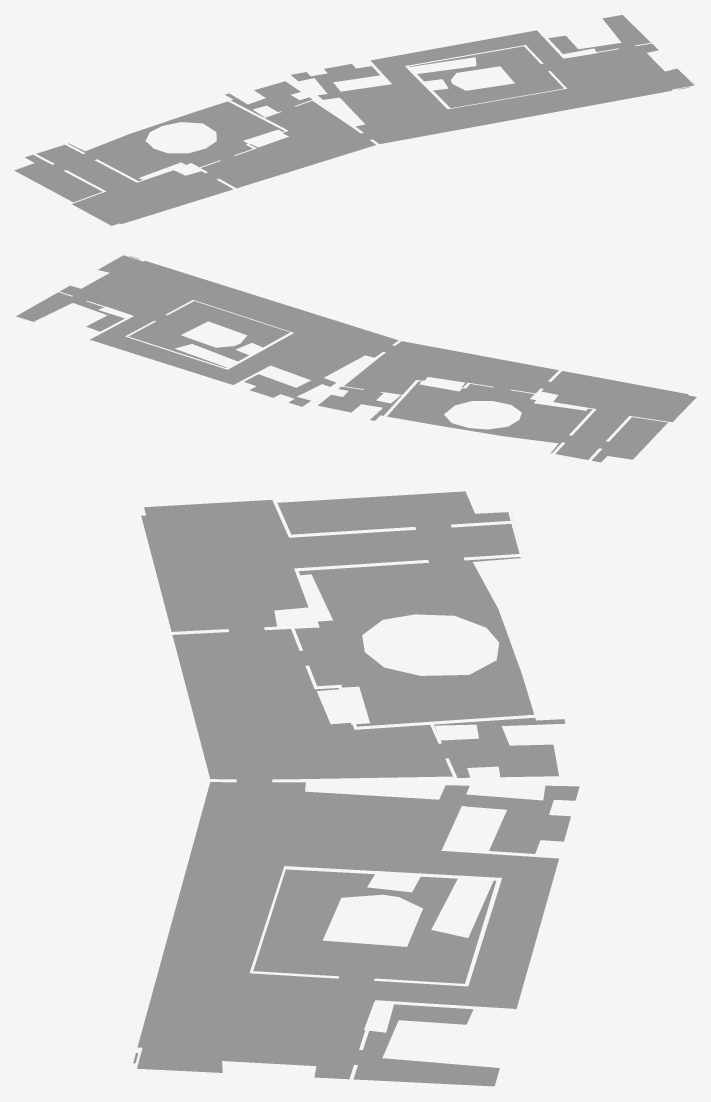
The model's file is DollHouseFloorAI.fbx.
The picture shows the model from 3 angles, top to bottom: view 1: azimuth 30°, elevation 25°; view 2: azimuth 150°, elevation 25°; view 3: azimuth 270°, elevation 25°; orthographic projection. The views are drawn at different scales.
Parts seen in each view (by area): view 1: AI_Floor; view 2: AI_Floor; view 3: AI_Floor.
Part boxes in pixels (box(x1,y1,x2,y2)): AI_Floor: box(14, 15, 694, 225); AI_Floor: box(16, 255, 696, 462); AI_Floor: box(133, 491, 579, 1086).
Size of the model in its own units: 7885 by 0.000408 by 2505.
